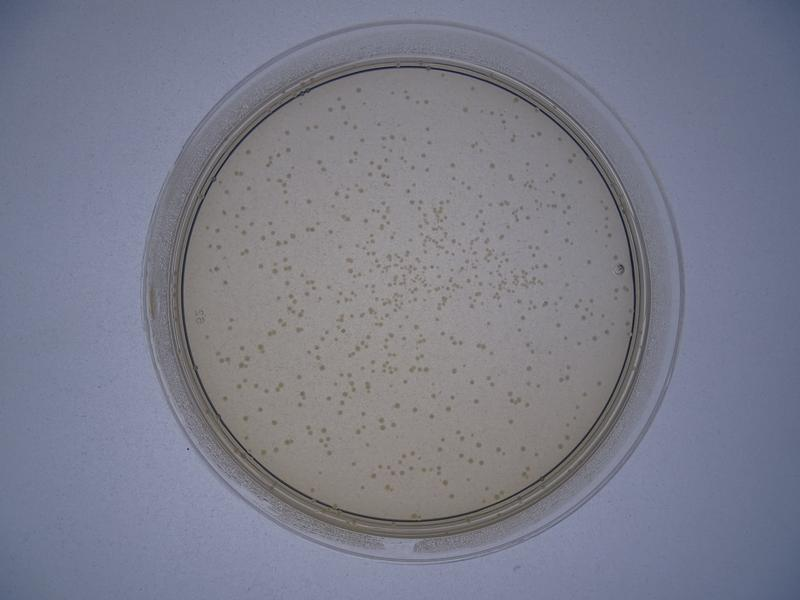colony: (503, 414, 519, 426), (434, 442, 447, 456), (552, 318, 565, 331), (562, 359, 575, 372), (357, 133, 370, 145), (447, 160, 460, 172), (280, 196, 293, 208), (481, 317, 494, 329), (268, 417, 281, 429), (584, 256, 598, 267), (324, 391, 335, 404), (472, 439, 485, 450), (357, 480, 367, 494), (302, 195, 314, 206), (559, 278, 571, 289), (312, 155, 324, 166), (559, 332, 571, 343), (317, 361, 329, 372), (472, 394, 482, 407), (254, 404, 267, 414), (426, 390, 439, 400), (352, 84, 363, 95), (409, 403, 420, 414), (540, 225, 551, 236), (410, 177, 421, 188), (253, 261, 265, 271), (444, 402, 454, 414), (523, 364, 535, 374), (348, 459, 360, 469), (295, 399, 305, 411), (593, 376, 605, 386), (468, 376, 477, 389), (428, 409, 437, 422), (325, 132, 336, 142), (418, 149, 428, 160), (293, 371, 304, 381), (388, 419, 399, 429), (486, 348, 496, 359), (488, 159, 497, 171), (424, 137, 434, 147), (460, 104, 470, 114), (439, 478, 449, 488), (589, 333, 599, 343), (448, 490, 458, 500), (344, 264, 354, 274), (359, 408, 369, 418), (391, 400, 402, 409), (326, 225, 335, 236), (287, 231, 299, 239), (238, 227, 248, 236), (220, 276, 230, 285), (450, 365, 459, 375), (575, 339, 584, 349), (423, 124, 434, 132), (519, 312, 527, 323), (237, 344, 247, 352), (228, 315, 237, 323)
